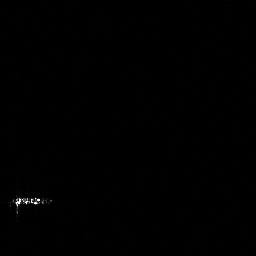ship: (8, 191, 54, 218)
